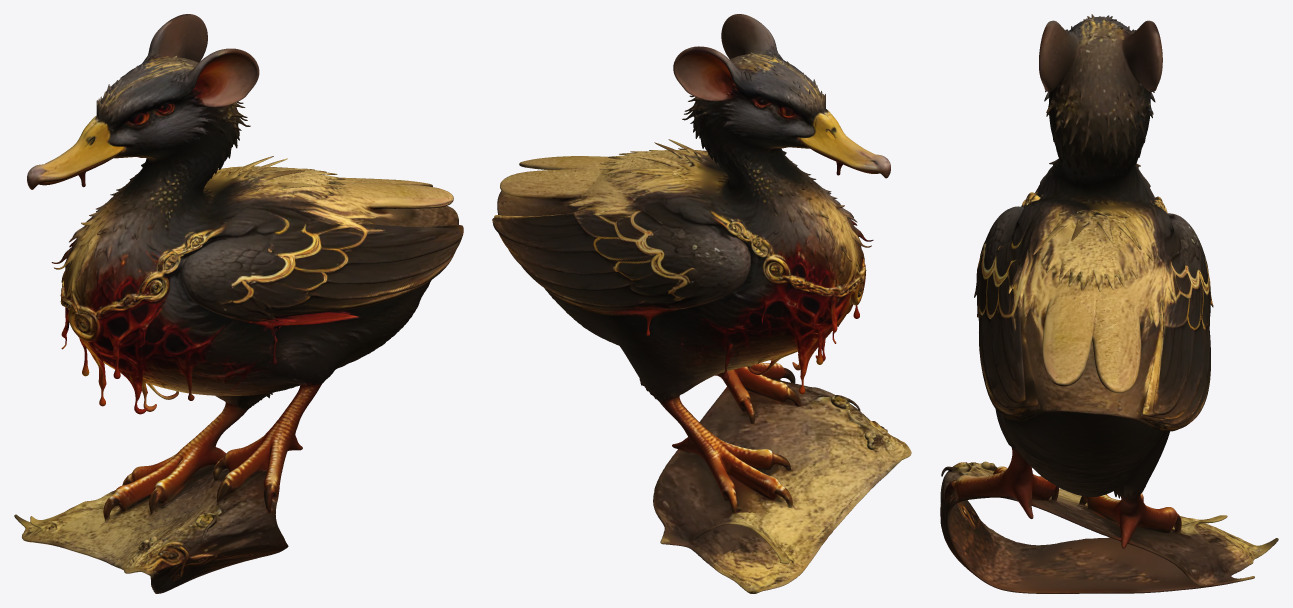
Rendered from jie-gou.glb.
3 renders of one model, left to right at view 1: azimuth 30°, elevation 25°; view 2: azimuth 150°, elevation 25°; view 3: azimuth 270°, elevation 25°, orthographic. The views are drawn at different scales.
Parts seen in each view (by area): view 1: node_0; view 2: node_0; view 3: node_0.
Boxes of the visible parts, <box> form: node_0: <box>14,14,463,593</box>; node_0: <box>492,14,911,593</box>; node_0: <box>940,14,1278,593</box>.
Size of the model in its own units: 0.8069 by 0.9634 by 0.508.
1 material, 1 textured.
